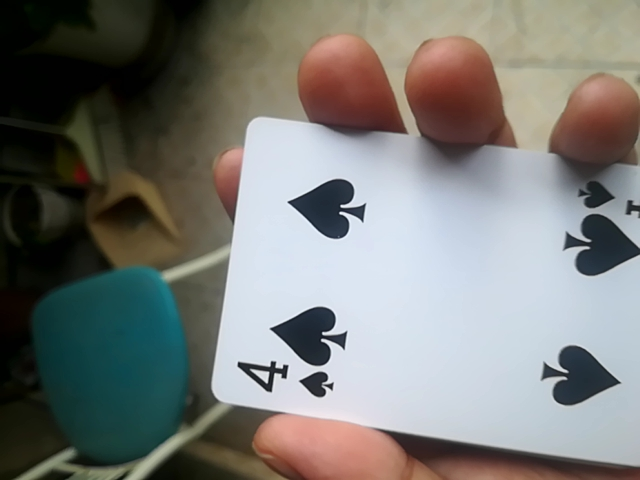ht 4: (216, 112, 638, 474)
